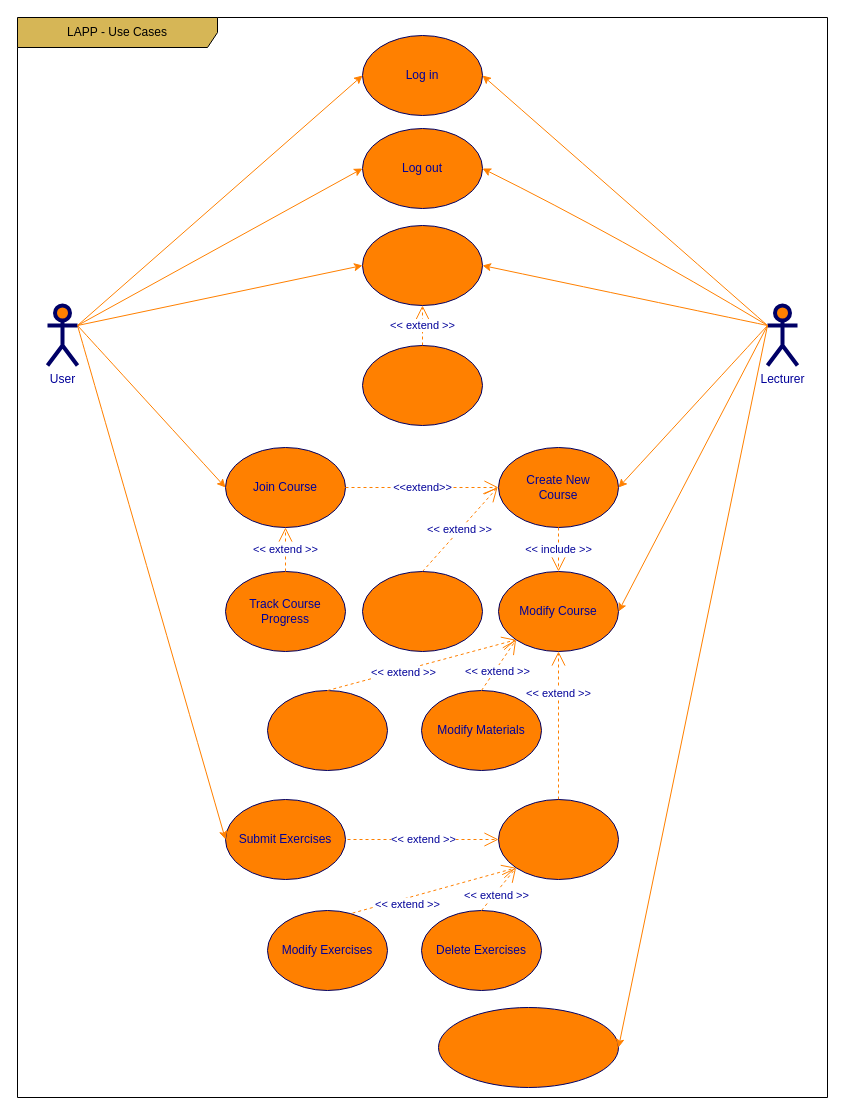
Image size: 845x1115. Some labels were removed from this diagram. The centre of each missing label's shape, as x and y in pixels:
"Evalutate Student's Performance" goes at (x=528, y=1047).
"Find Contact Info" goes at (x=422, y=265).
"Send Message" goes at (x=422, y=385).
"Track Student Activities" goes at (x=422, y=611).
"Upload Exercises" goes at (x=558, y=839).
"Upload Materials" goes at (x=327, y=730).
